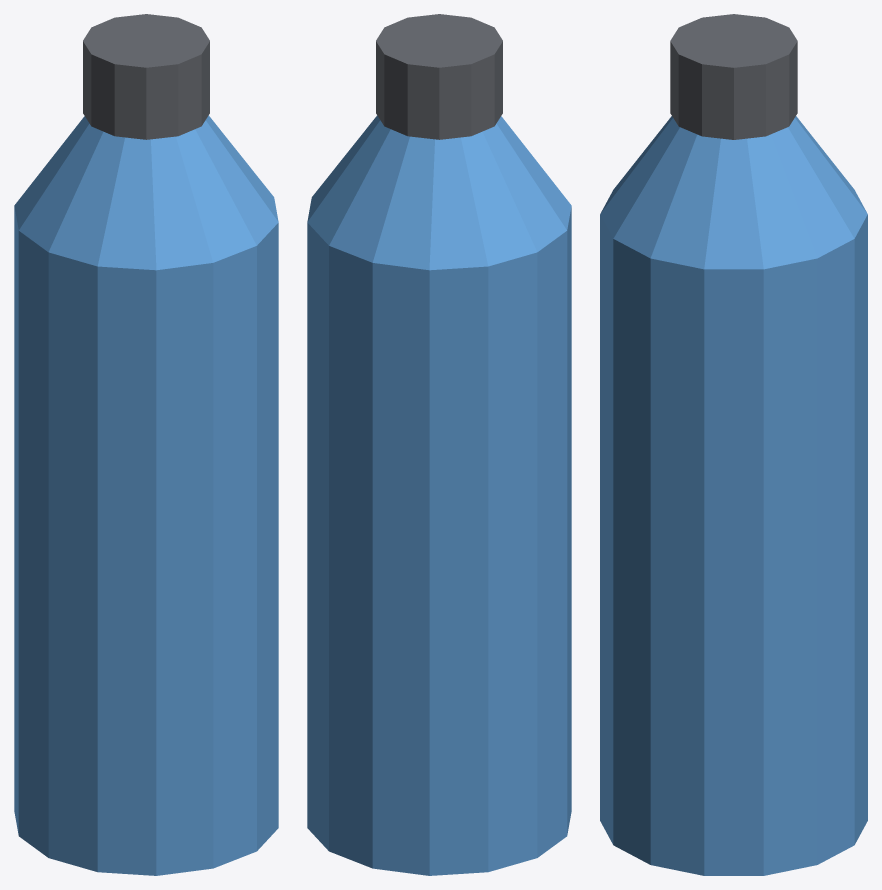
Rendered from Prop_WaterBottle_Blue.glb.
3 views of the same model, side by side, from view 1: azimuth 30°, elevation 25°; view 2: azimuth 150°, elevation 25°; view 3: azimuth 270°, elevation 25° (orthographic).
Parts seen in each view (by area): view 1: Body, Shoulder, Cap; view 2: Body, Shoulder, Cap; view 3: Body, Shoulder, Cap.
Part boxes in pixels (x1=…): Body: x1=14, y1=207, x2=278, y2=875; Shoulder: x1=14, y1=115, x2=278, y2=270; Cap: x1=83, y1=14, x2=209, y2=139; Body: x1=307, y1=207, x2=571, y2=875; Shoulder: x1=307, y1=115, x2=571, y2=270; Cap: x1=376, y1=14, x2=502, y2=139; Body: x1=600, y1=214, x2=867, y2=875; Shoulder: x1=600, y1=116, x2=867, y2=269; Cap: x1=670, y1=14, x2=797, y2=139.
Bounding box in the file's own units: 0.0819 × 0.27 × 0.084.
